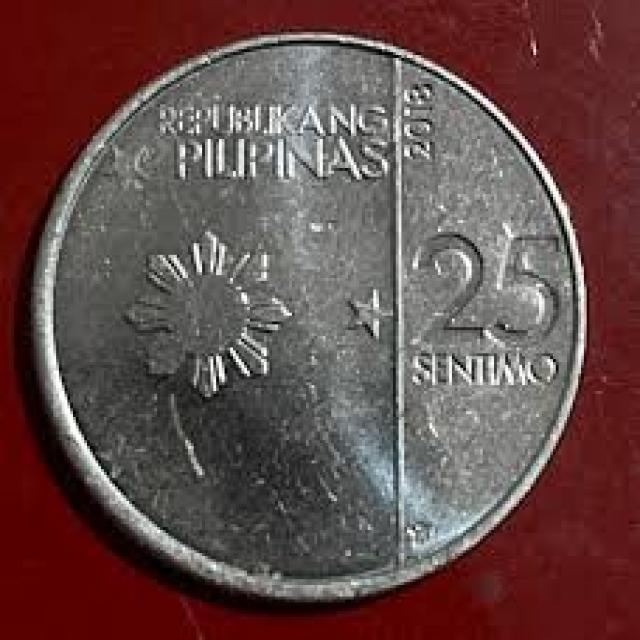25 cents: (26, 26, 592, 618)
